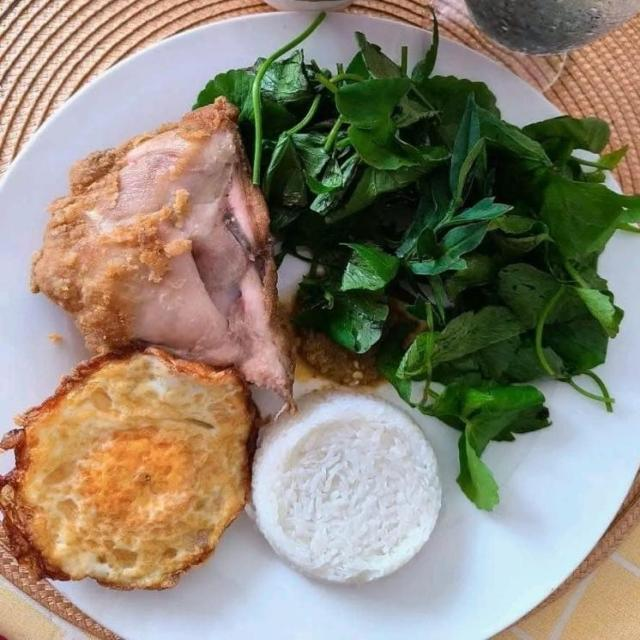Chicken: (29, 98, 296, 395)
Egg: (2, 348, 264, 580)
Plate: (0, 28, 262, 221)
Rice: (248, 389, 441, 585)
Vegetables: (196, 8, 639, 514)
